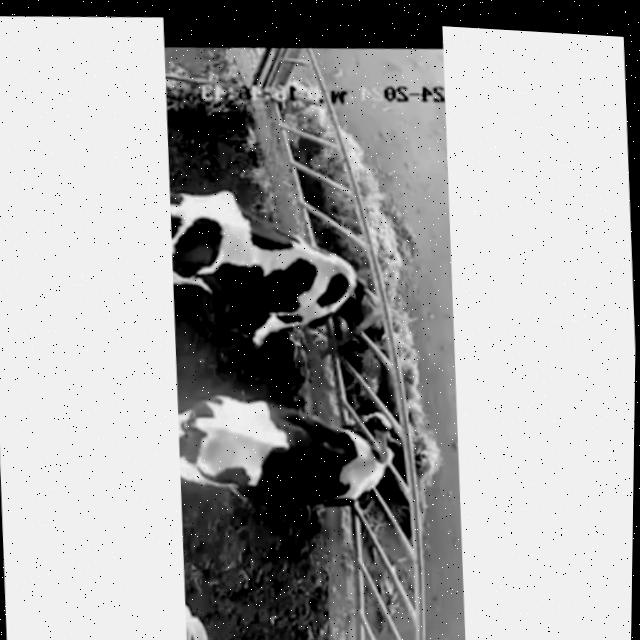eat: (281, 231, 427, 371), (282, 399, 447, 518)
